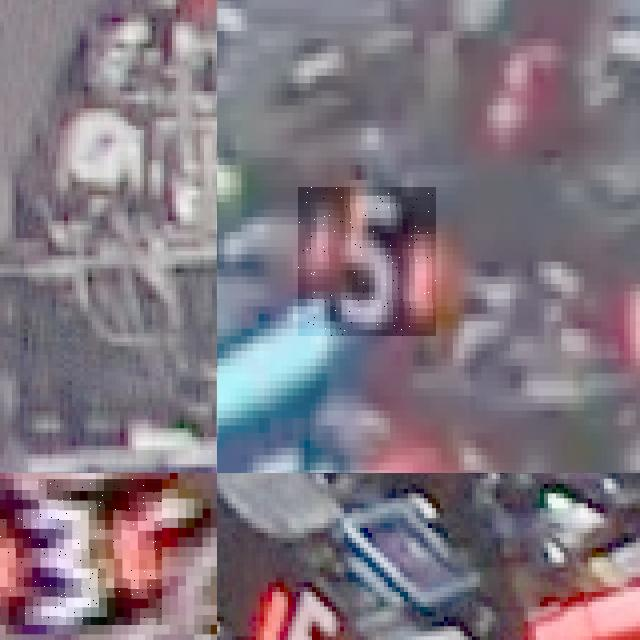R3: (0, 479, 161, 624)
R5: (298, 187, 436, 336), (242, 572, 350, 640)
